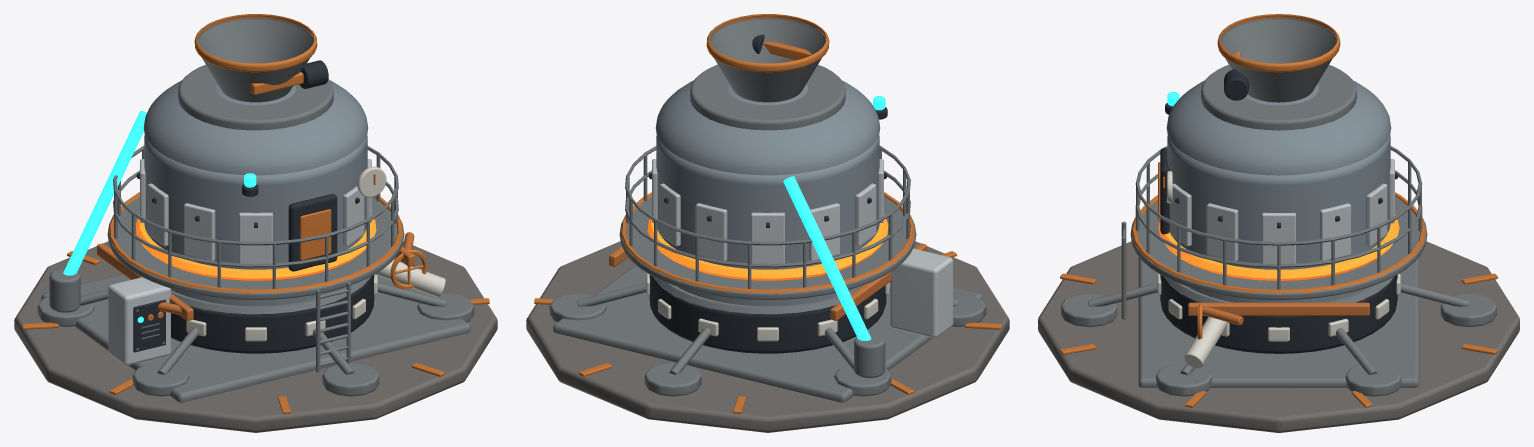
The model's file is mre-reactor.glb.
3 views of the same model, side by side, from view 1: azimuth 30°, elevation 25°; view 2: azimuth 150°, elevation 25°; view 3: azimuth 270°, elevation 25° (orthographic).
Visible parts, largest first — view 1: RenderBatch_MRE_Reactor_MRE_Frame, MRE_FoundationPad, RenderBatch_MRE_Reactor_MRE_Vessel, RenderBatch_MRE_Reactor_MRE_Insulation, RenderBatch_MRE_Reactor_MRE_DarkService, RenderBatch_MRE_Reactor_MRE_SafetyOrange, RenderBatch_MRE_Reactor_MRE_Ceramic, MRE_ThermalBand, RenderBatch_MRE_Reactor_MRE_StatusLight, RenderBatch_MRE_Reactor_MRE_CopperBus, MRE_CabinetFace, MRE_FeedGateBlade; view 2: RenderBatch_MRE_Reactor_MRE_Frame, MRE_FoundationPad, RenderBatch_MRE_Reactor_MRE_Vessel, RenderBatch_MRE_Reactor_MRE_Insulation, RenderBatch_MRE_Reactor_MRE_DarkService, RenderBatch_MRE_Reactor_MRE_SafetyOrange, MRE_ThermalBand, RenderBatch_MRE_Reactor_MRE_StatusLight, RenderBatch_MRE_Reactor_MRE_Ceramic, RenderBatch_MRE_Reactor_MRE_CopperBus, MRE_FeedGateBlade; view 3: RenderBatch_MRE_Reactor_MRE_Frame, MRE_FoundationPad, RenderBatch_MRE_Reactor_MRE_Vessel, RenderBatch_MRE_Reactor_MRE_DarkService, RenderBatch_MRE_Reactor_MRE_Insulation, RenderBatch_MRE_Reactor_MRE_SafetyOrange, MRE_ThermalBand, RenderBatch_MRE_Reactor_MRE_CopperBus, RenderBatch_MRE_Reactor_MRE_Ceramic.
Part boxes in pixels (left/top/right/bottom): RenderBatch_MRE_Reactor_MRE_Frame: left=37, top=18, right=474, bottom=402; MRE_FoundationPad: left=14, top=241, right=497, bottom=432; RenderBatch_MRE_Reactor_MRE_Vessel: left=143, top=80, right=368, bottom=306; RenderBatch_MRE_Reactor_MRE_Insulation: left=108, top=159, right=371, bottom=365; RenderBatch_MRE_Reactor_MRE_DarkService: left=136, top=60, right=374, bottom=353; RenderBatch_MRE_Reactor_MRE_SafetyOrange: left=22, top=14, right=489, bottom=413; RenderBatch_MRE_Reactor_MRE_Ceramic: left=186, top=166, right=445, bottom=341; MRE_ThermalBand: left=135, top=214, right=376, bottom=280; RenderBatch_MRE_Reactor_MRE_StatusLight: left=63, top=110, right=256, bottom=322; RenderBatch_MRE_Reactor_MRE_CopperBus: left=97, top=232, right=414, bottom=320; MRE_CabinetFace: left=133, top=299, right=165, bottom=352; MRE_FeedGateBlade: left=250, top=72, right=303, bottom=94; RenderBatch_MRE_Reactor_MRE_Frame: left=549, top=18, right=986, bottom=402; MRE_FoundationPad: left=526, top=241, right=1009, bottom=432; RenderBatch_MRE_Reactor_MRE_Vessel: left=655, top=80, right=880, bottom=306; RenderBatch_MRE_Reactor_MRE_Insulation: left=652, top=159, right=953, bottom=337; RenderBatch_MRE_Reactor_MRE_DarkService: left=648, top=34, right=887, bottom=353; RenderBatch_MRE_Reactor_MRE_SafetyOrange: left=534, top=14, right=1001, bottom=413; MRE_ThermalBand: left=647, top=214, right=888, bottom=280; RenderBatch_MRE_Reactor_MRE_StatusLight: left=783, top=96, right=885, bottom=340; RenderBatch_MRE_Reactor_MRE_Ceramic: left=646, top=273, right=889, bottom=341; RenderBatch_MRE_Reactor_MRE_CopperBus: left=609, top=243, right=926, bottom=320; MRE_FeedGateBlade: left=763, top=42, right=811, bottom=60; RenderBatch_MRE_Reactor_MRE_Frame: left=1061, top=18, right=1496, bottom=396; MRE_FoundationPad: left=1038, top=241, right=1519, bottom=432; RenderBatch_MRE_Reactor_MRE_Vessel: left=1166, top=80, right=1391, bottom=302; RenderBatch_MRE_Reactor_MRE_DarkService: left=1160, top=69, right=1398, bottom=353; RenderBatch_MRE_Reactor_MRE_Insulation: left=1170, top=159, right=1394, bottom=263; RenderBatch_MRE_Reactor_MRE_SafetyOrange: left=1060, top=14, right=1497, bottom=407; MRE_ThermalBand: left=1158, top=215, right=1399, bottom=280; RenderBatch_MRE_Reactor_MRE_CopperBus: left=1188, top=302, right=1369, bottom=325; RenderBatch_MRE_Reactor_MRE_Ceramic: left=1157, top=171, right=1400, bottom=368.
Bounding box in the file's own units: 9.27 × 6.23 × 9.27.
